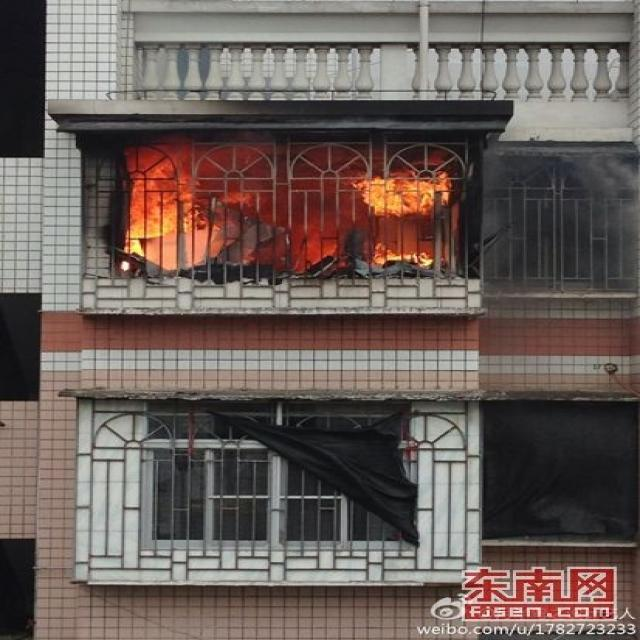Fire: (118, 146, 217, 274), (353, 171, 454, 216), (370, 244, 436, 268)
Smoke: (562, 152, 640, 197)
